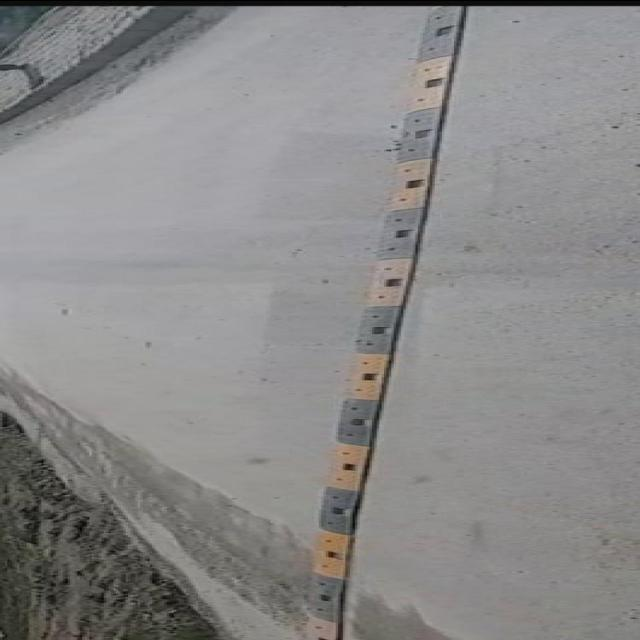Speed_Breaker: (298, 2, 463, 640), (303, 7, 465, 639)
